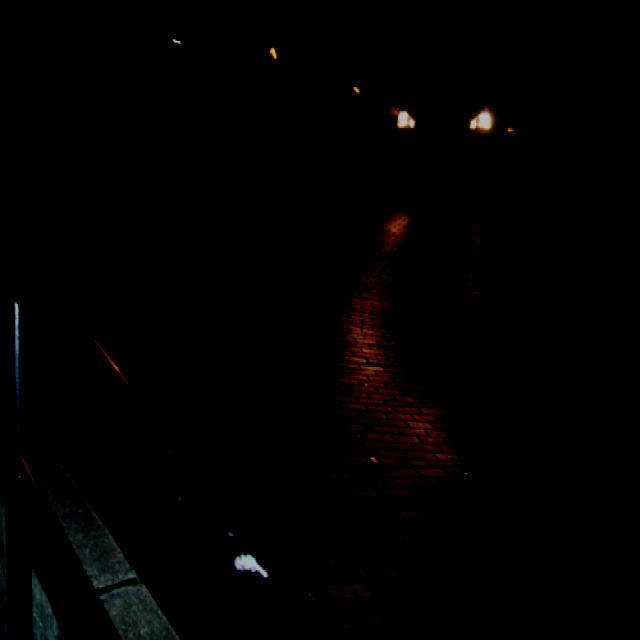Car: (383, 54, 507, 164)
